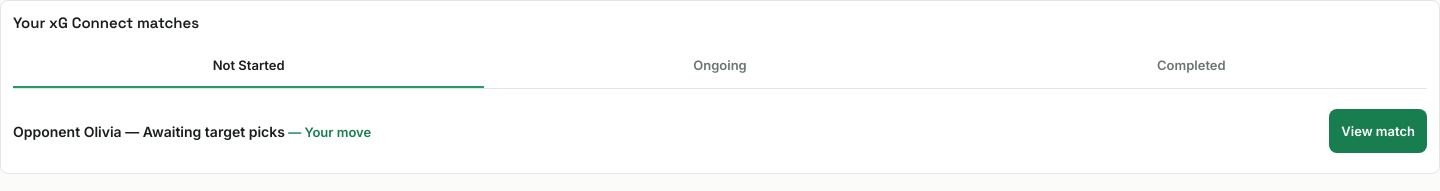
Scenario: MatchesTab › REQ-1417: buckets matches by status so each appears in exactly one sub-tab
The width and height of the screenshot is (1440, 191).
Expected: the tab "Not Started" is shown, x1=13 y1=44 x2=484 y2=88
Expected: the number of list items is 1, x1=13 y1=101 x2=1427 y2=161
Click the tab "Ongoing" at (720, 66), box x1=484 y1=44 x2=956 y2=88
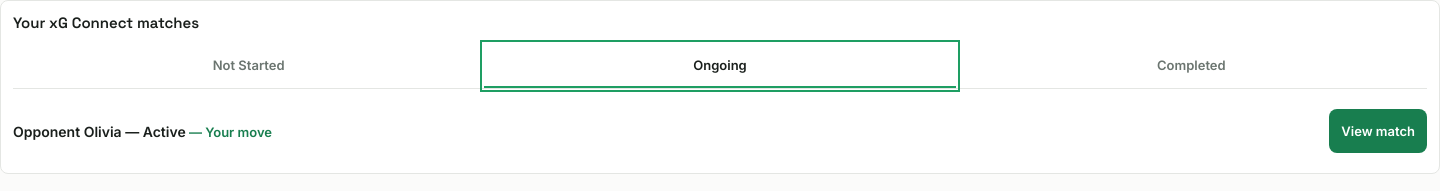
Expected: the number of list items is 1, x1=13 y1=101 x2=1427 y2=161
Expected: the text "Opponent Olivia — Active — Your move" is shown, x1=13 y1=122 x2=272 y2=140
Click the tab "Completed" at (1191, 66), box x1=956 y1=44 x2=1427 y2=88
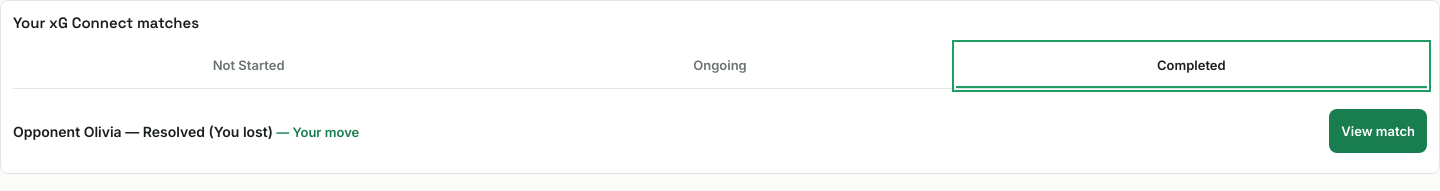
Expected: the number of list items is 1, x1=13 y1=101 x2=1427 y2=161
Expected: the text "Opponent Olivia — Resolved (You lost) — Your move" is shown, x1=13 y1=122 x2=359 y2=140
